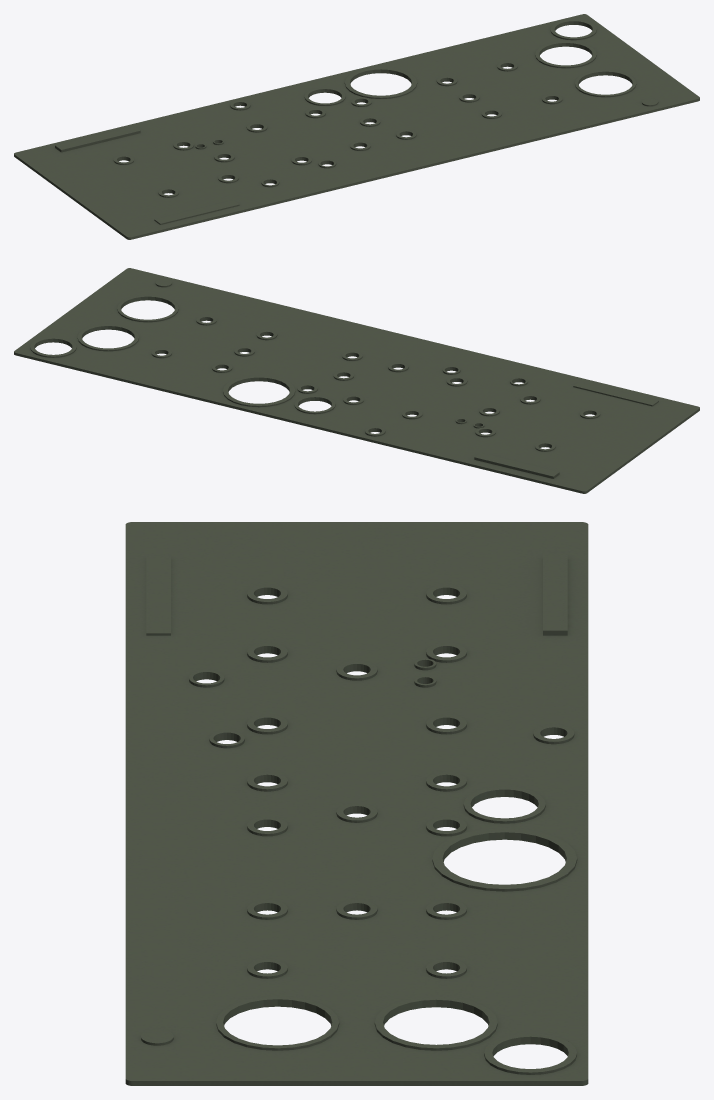
3 views of the same model, one above another, from view 1: azimuth 30°, elevation 25°; view 2: azimuth 150°, elevation 25°; view 3: azimuth 270°, elevation 25° (orthographic). The views are drawn at different scales.
Parts seen in each view (by area): view 1: 18_箱盖; view 2: 18_箱盖; view 3: 18_箱盖.
Boxes of the visible parts, left/top/right/bottom form: 18_箱盖: left=14, top=14, right=699, bottom=239; 18_箱盖: left=14, top=268, right=699, bottom=493; 18_箱盖: left=125, top=522, right=588, bottom=1085.
Size of the model in its own units: 246 by 2.03 by 86.02.
Materials: 1 (1 with a texture image).
